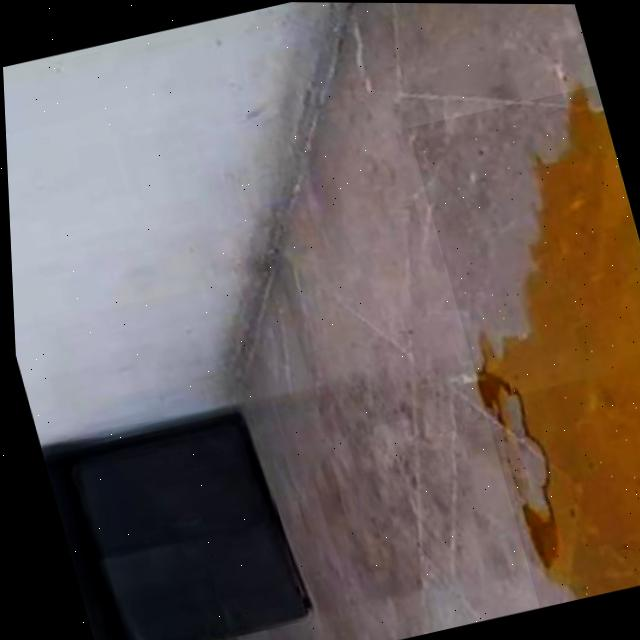spillage: (474, 88, 640, 598)
